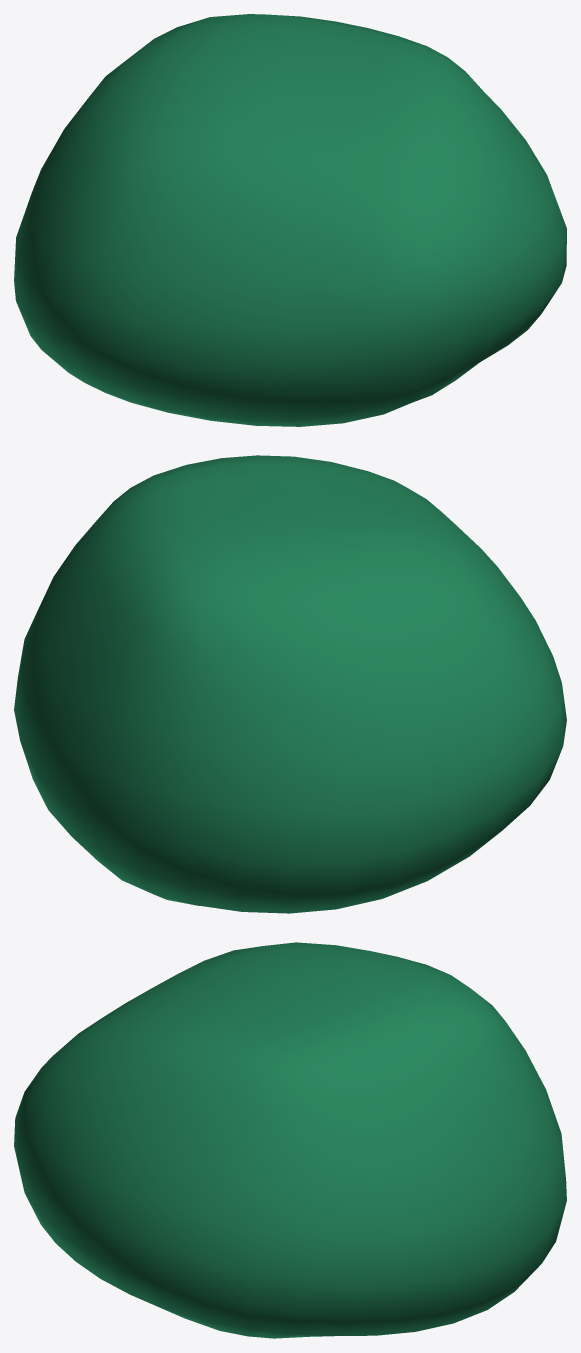
Rendered from Tree_Top_A_01.fbx.
3 renders of one model, top to bottom at view 1: azimuth 30°, elevation 25°; view 2: azimuth 150°, elevation 25°; view 3: azimuth 270°, elevation 25°, orthographic. The views are drawn at different scales.
Visible parts, largest first — view 1: Tree_Top_A_01_LOD0; view 2: Tree_Top_A_01_LOD0; view 3: Tree_Top_A_01_LOD0.
Part boxes in pixels (x1=…): Tree_Top_A_01_LOD0: x1=14, y1=14, x2=566, y2=426; Tree_Top_A_01_LOD0: x1=14, y1=455, x2=566, y2=913; Tree_Top_A_01_LOD0: x1=14, y1=942, x2=566, y2=1338.
Size of what is drawn, in the model's own units: 716 by 447 by 721.
